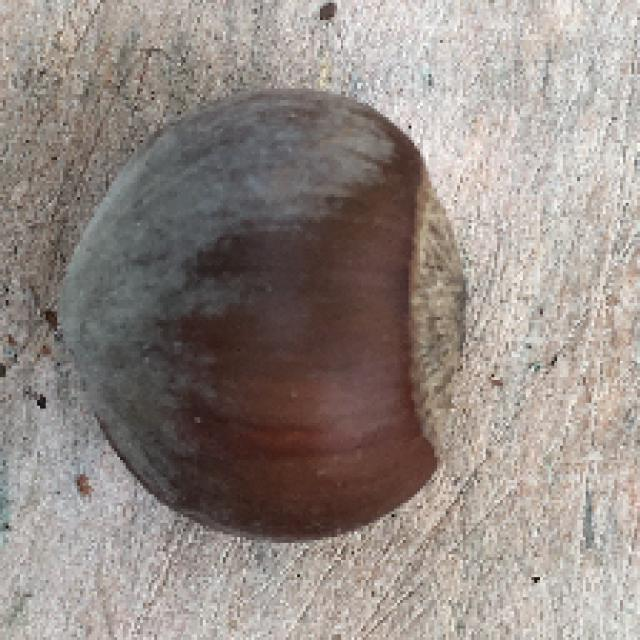damagedHazelnut: (51, 90, 476, 542)
